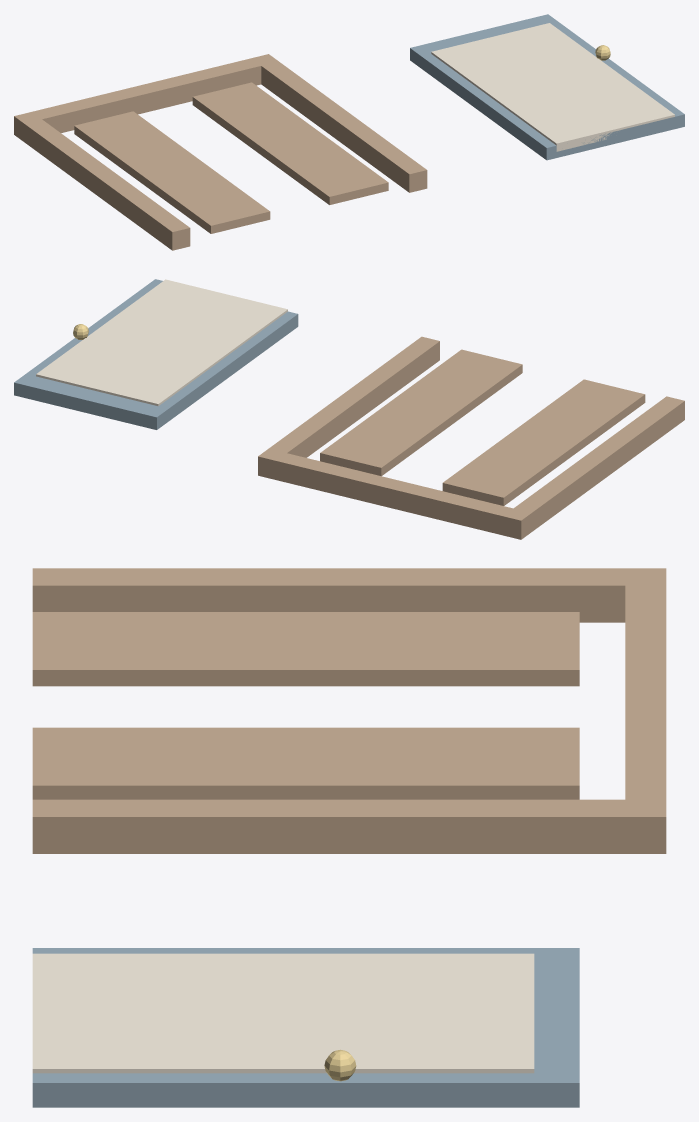
Rendered from doorway.glb.
3 renders of one model, top to bottom at view 1: azimuth 30°, elevation 25°; view 2: azimuth 150°, elevation 25°; view 3: azimuth 270°, elevation 25°, orthographic. The views are drawn at different scales.
Parts seen in each view (by area): view 1: clinic_door, leaf_l, leaf_r, clinic_frame, lintel, post_r, post_l; view 2: clinic_door, leaf_l, leaf_r, lintel, clinic_frame, post_l, post_r; view 3: clinic_door, leaf_l, leaf_r, post_r, clinic_frame, post_l, lintel.
Boxes of the visible parts, box(x1,y1,x2,y2) form: clinic_door: box(431, 23, 674, 151); leaf_l: box(74, 111, 270, 233); leaf_r: box(192, 82, 388, 204); clinic_frame: box(410, 14, 684, 160); lintel: box(14, 54, 278, 141); post_r: box(261, 61, 427, 192); post_l: box(24, 119, 190, 250); clinic_door: box(36, 279, 287, 406); leaf_l: box(442, 379, 645, 505); leaf_r: box(320, 349, 522, 476); lintel: box(258, 448, 531, 539); clinic_frame: box(14, 279, 298, 429); post_l: box(514, 396, 684, 531); post_r: box(269, 336, 439, 457); clinic_door: box(32, 953, 534, 1073); leaf_l: box(32, 612, 579, 686); leaf_r: box(32, 727, 579, 799); post_r: box(32, 799, 625, 853); clinic_frame: box(32, 948, 579, 1107); post_l: box(32, 568, 625, 622); lintel: box(625, 568, 666, 853).
Size of the model in its own units: 5.21 by 0.25 by 2.78.
